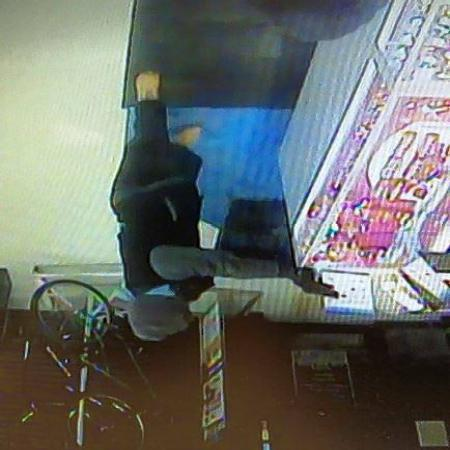Pistol: (293, 264, 344, 304)
